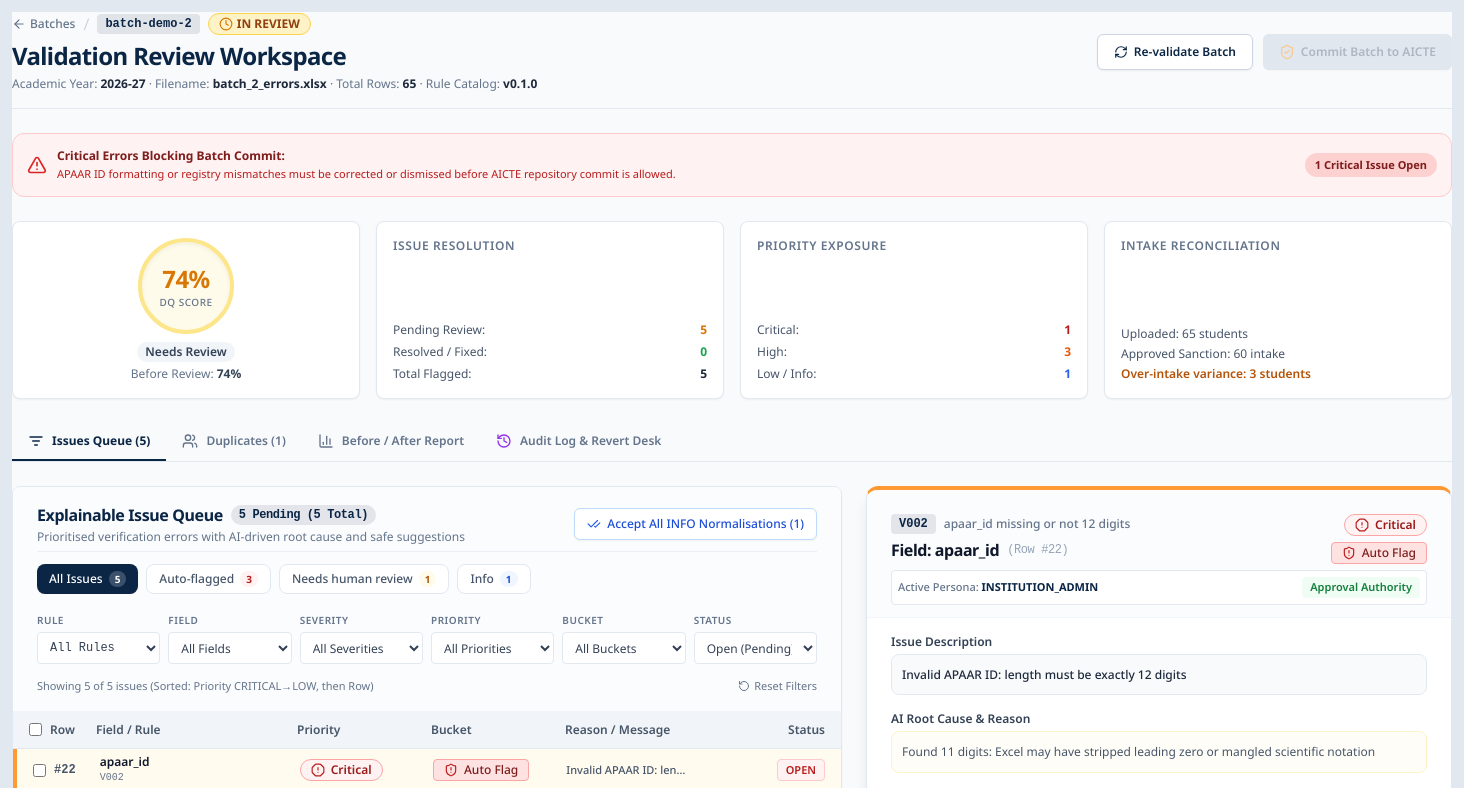
it: Review Workspace & Decision Flow (Task A3) › 1. Issue Queue & Sorting › filters by Rule, Field, Severity, Priority dropdowns
Select "V009" in the dropdown named "filter by rule" at [99, 648], box [37,632,160,664]
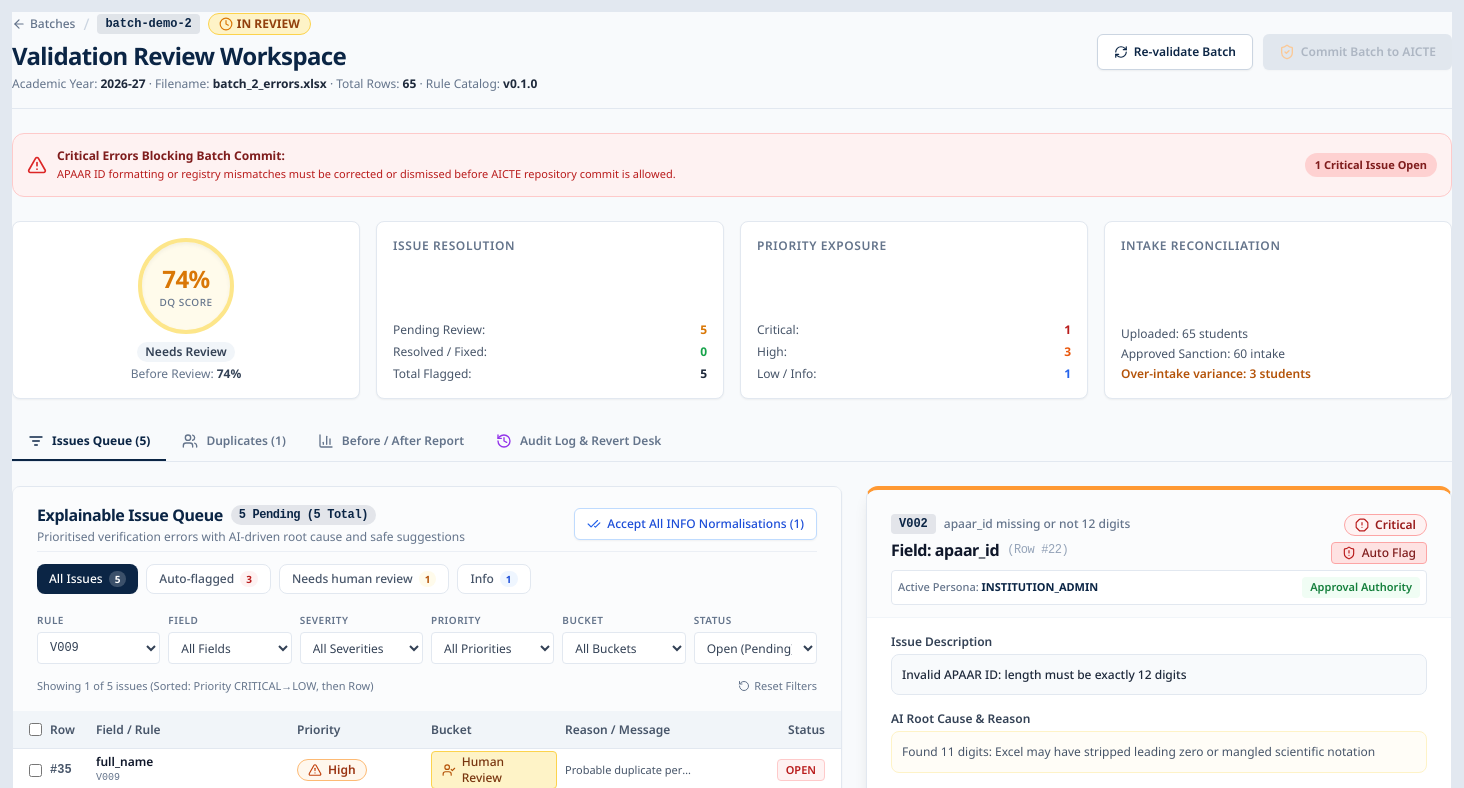
expect the text "#35" is shown: met, box [50,762,72,778]
// Reset filters button
Click the button "Reset Filters" at [778, 686], box [738,678,817,694]
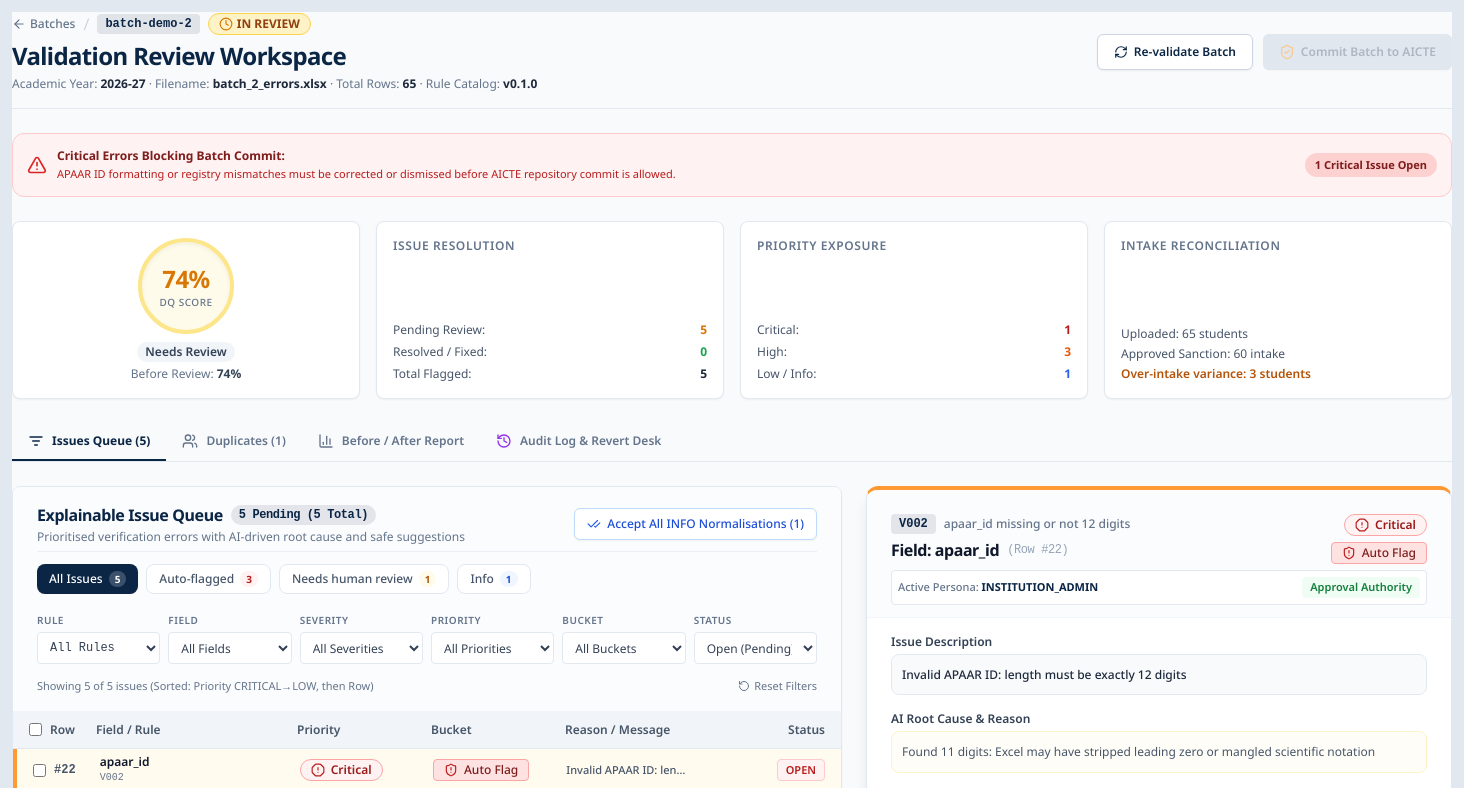
expect the text "#22" is shown: met, box [54,762,76,778]
